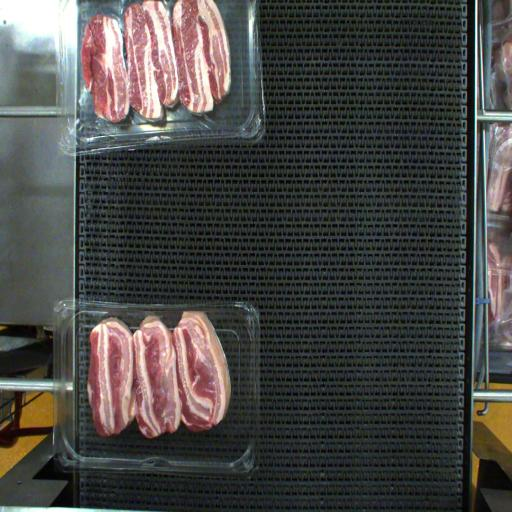packaging-error: (98, 293, 223, 331)
